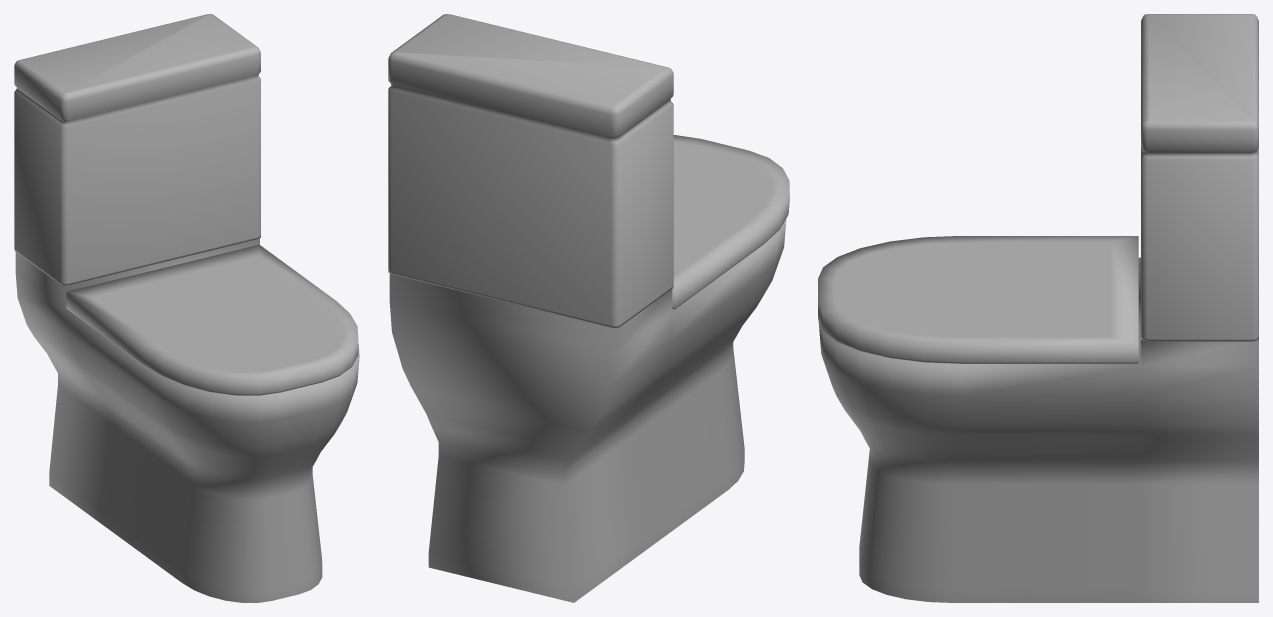
The model's file is Closet.fbx.
3 views of the same model, side by side, from view 1: azimuth 30°, elevation 25°; view 2: azimuth 150°, elevation 25°; view 3: azimuth 270°, elevation 25° (orthographic). The views are drawn at different scales.
Parts seen in each view (by area): view 1: Toilet; view 2: Toilet; view 3: Toilet.
Boxes of the visible parts, left/top/right/bottom form: Toilet: left=14, top=14, right=359, bottom=602; Toilet: left=388, top=14, right=789, bottom=602; Toilet: left=818, top=14, right=1258, bottom=602.
Bounding box in the file's own units: 55.9 × 116 × 92.71.
Materials: 1 (1 with a texture image).
